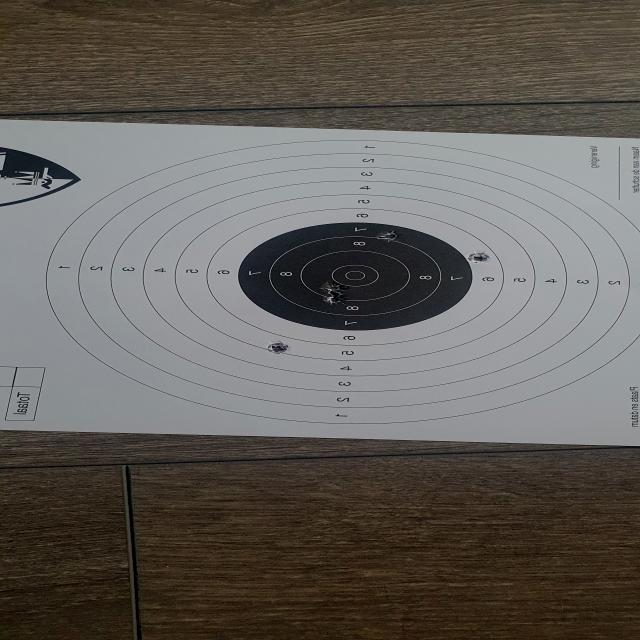5: (265, 341, 291, 354)
6: (466, 250, 495, 264)
8: (376, 230, 402, 242)
9: (320, 283, 347, 293), (324, 296, 346, 306)
Target: (42, 139, 640, 426)
black_contour: (241, 222, 471, 330)
